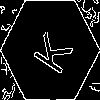K: (25, 25, 74, 77)
